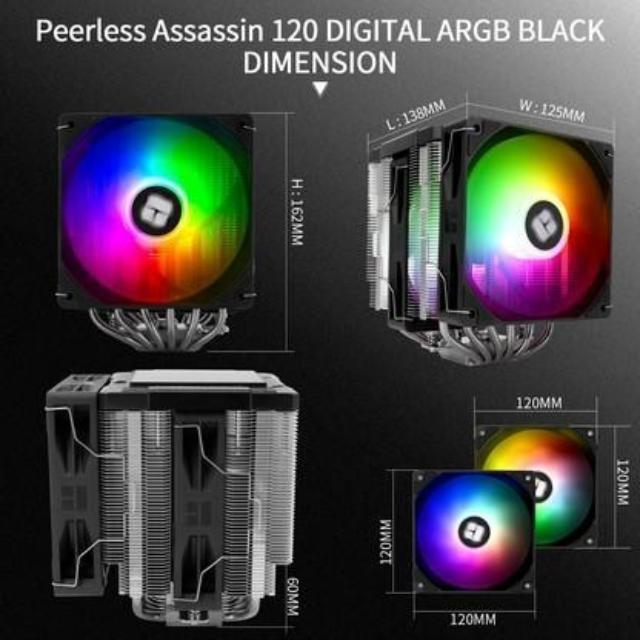CPU_Fan: (32, 362, 316, 634), (352, 100, 624, 368), (41, 96, 276, 356)
